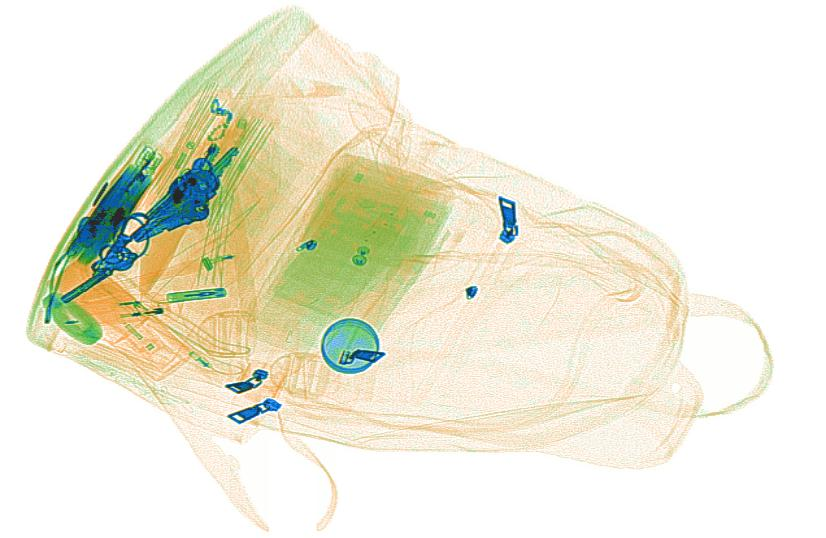lighter: (53, 288, 167, 324)
plasticBottleWithaNozzle: (56, 257, 188, 378)
